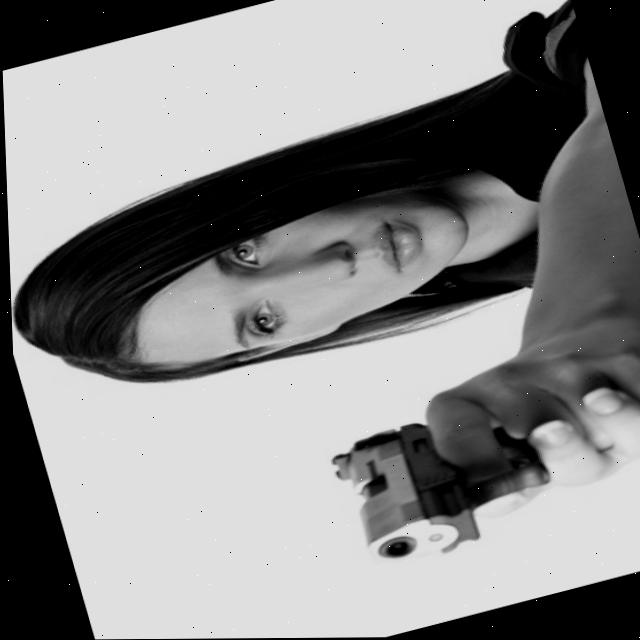pistol: (313, 392, 562, 579)
